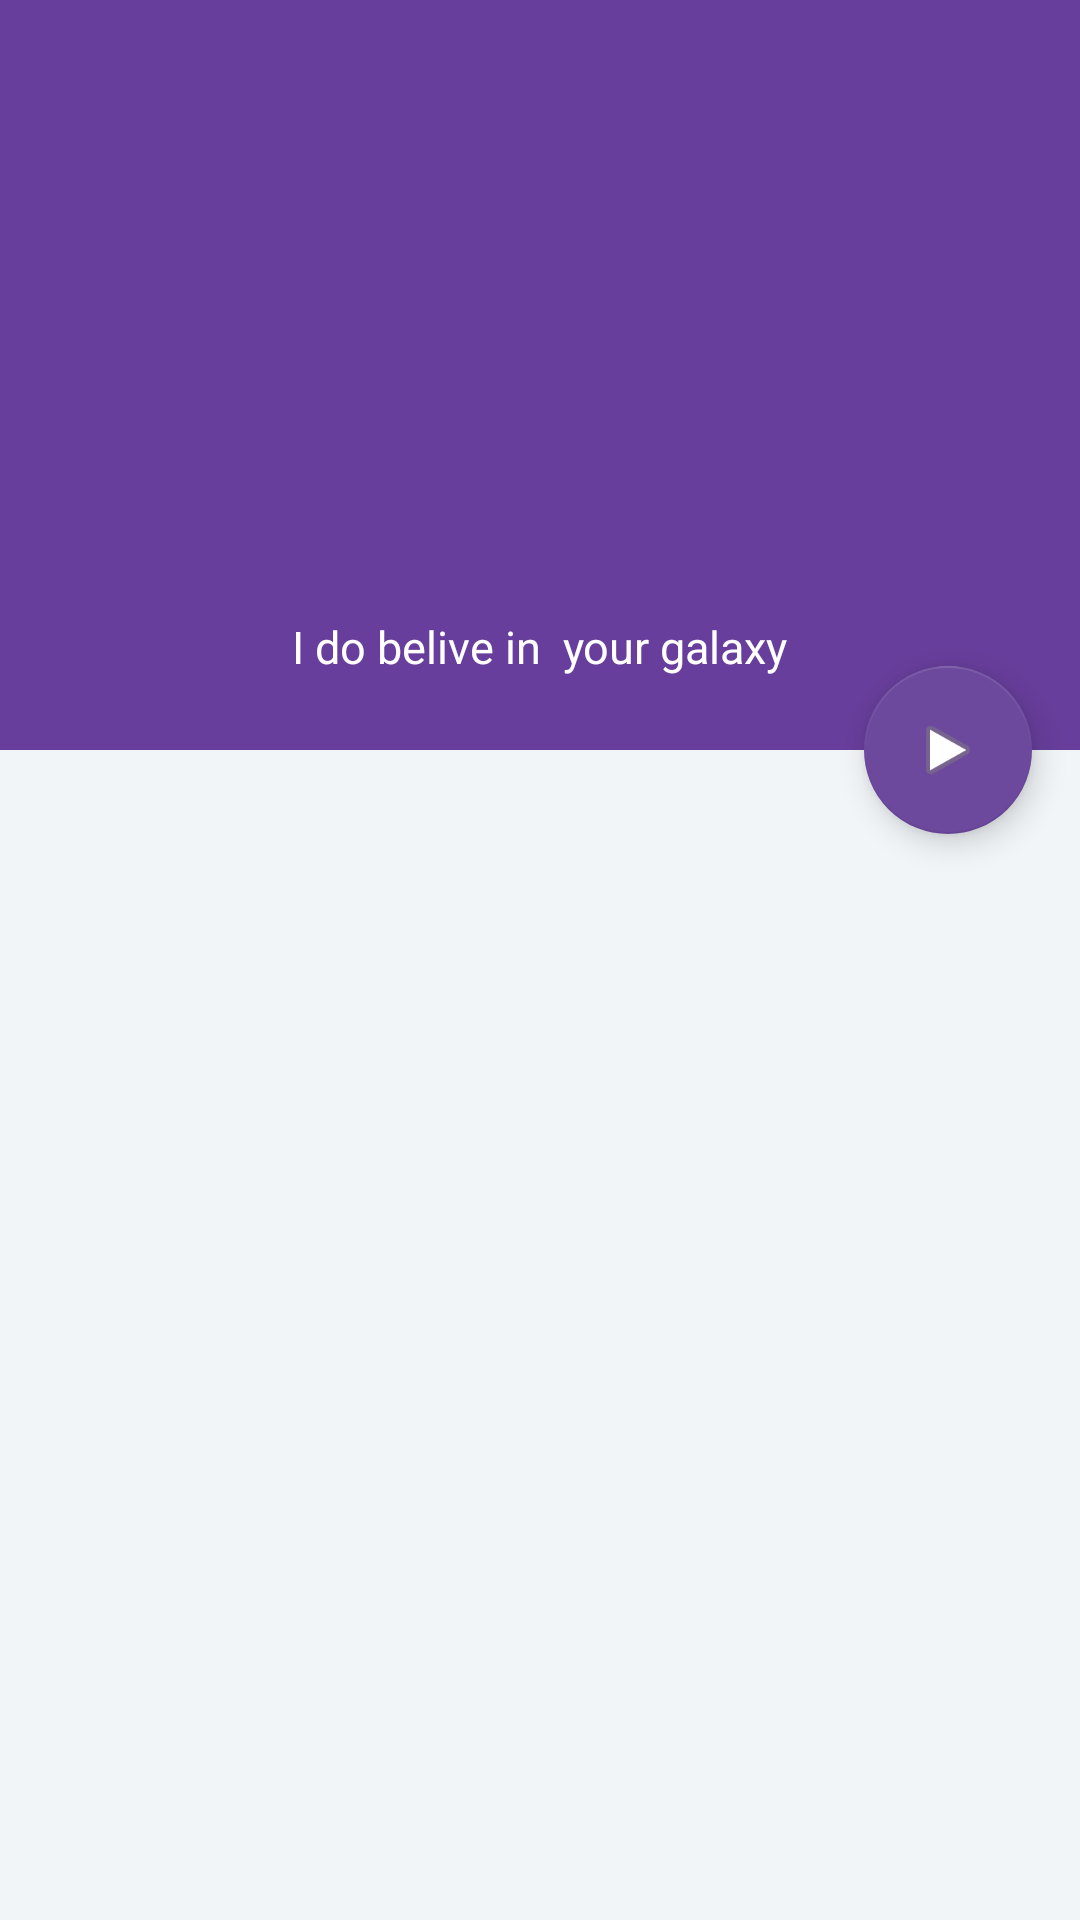

Where to tap for icons on this 1080×1920 app screen, as (x,y):
play: (948,750)
